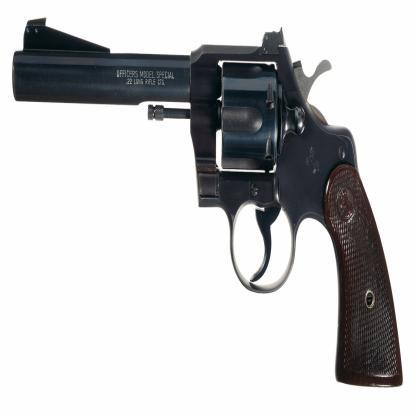gun: (12, 8, 406, 394)
